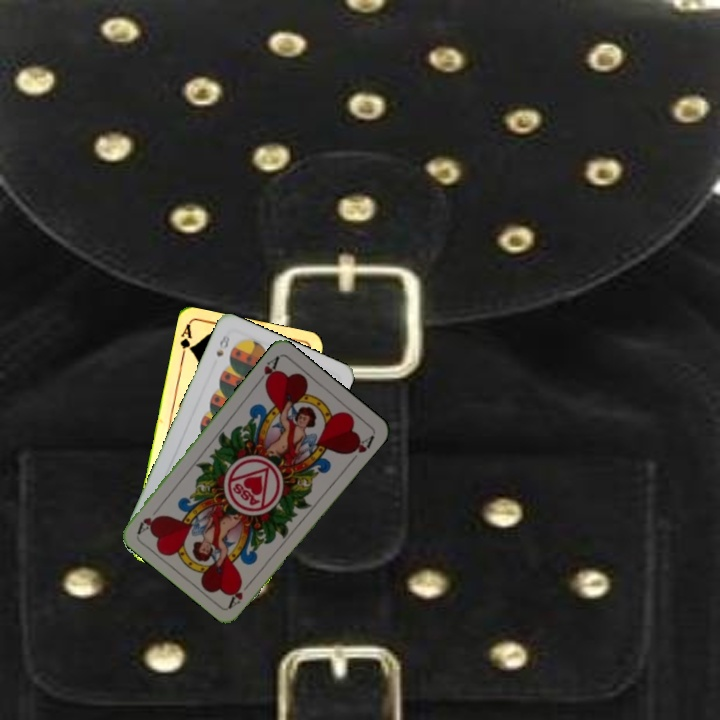GA: (176, 321, 195, 361)
HA: (225, 575, 256, 610), (252, 352, 282, 388)
S8: (212, 331, 232, 359)
